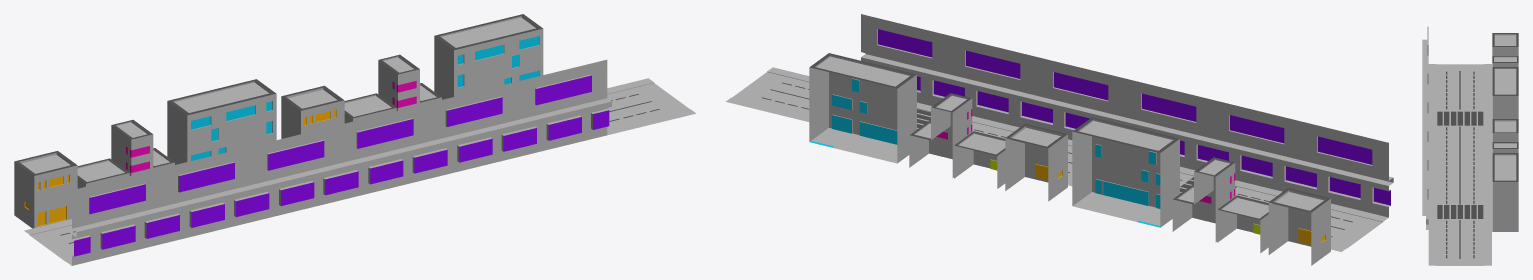
Rendered from Top_Down_City.fbx.
3 renders of one model, left to right at view 1: azimuth 30°, elevation 25°; view 2: azimuth 150°, elevation 25°; view 3: azimuth 270°, elevation 25°, orthographic. The views are drawn at different scales.
Visible parts, largest first — view 1: Building_04, Building_08, Block_Tile_03, Block_Tile_04, Block_Tile_02, Block_Tile_06, Block_Tile_01, Block_Tile_05, Building_01, Street_Tile_07, Building_05, Building_03 (+4 smaller); view 2: Building_04, Building_08, Block_Tile_01, Block_Tile_02, Block_Tile_05, Block_Tile_04, Block_Tile_03, Block_Tile_06, Building_01, Building_05, Building_03, Building_07 (+6 smaller); view 3: Building_08, Street_Tile_04, Street_Tile_01, Street_Tile_07, Street_Tile_03, Street_Tile_05, Street_Tile_06, Street_Tile_02, Building_04, Pedestrians_Pass_01, Building_05, Building_01 (+21 smaller).
Boxes of the visible parts, bbox=[...] form: Building_04: bbox=[167, 79, 276, 164]; Building_08: bbox=[434, 14, 543, 99]; Block_Tile_03: bbox=[250, 125, 344, 222]; Block_Tile_04: bbox=[339, 103, 433, 200]; Block_Tile_02: bbox=[161, 147, 254, 243]; Block_Tile_06: bbox=[518, 59, 611, 156]; Block_Tile_01: bbox=[72, 168, 165, 265]; Block_Tile_05: bbox=[429, 81, 522, 178]; Building_01: bbox=[14, 151, 77, 228]; Street_Tile_07: bbox=[607, 78, 695, 135]; Building_05: bbox=[281, 85, 344, 138]; Building_03: bbox=[111, 120, 174, 175]; Building_04: bbox=[1072, 117, 1179, 227]; Building_08: bbox=[809, 53, 916, 163]; Block_Tile_01: bbox=[1301, 121, 1393, 217]; Block_Tile_02: bbox=[1213, 100, 1305, 191]; Block_Tile_05: bbox=[949, 35, 1041, 127]; Block_Tile_04: bbox=[1037, 57, 1129, 139]; Block_Tile_03: bbox=[1125, 78, 1217, 170]; Block_Tile_06: bbox=[861, 14, 953, 105]; Building_01: bbox=[1268, 188, 1330, 265]; Building_05: bbox=[1005, 124, 1067, 201]; Building_03: bbox=[1172, 157, 1235, 242]; Building_07: bbox=[909, 93, 972, 177]; Building_08: bbox=[1492, 153, 1518, 231]; Street_Tile_04: bbox=[1428, 150, 1491, 179]; Street_Tile_01: bbox=[1428, 64, 1491, 93]; Street_Tile_07: bbox=[1428, 236, 1491, 265]; Street_Tile_03: bbox=[1428, 121, 1491, 150]; Street_Tile_05: bbox=[1428, 179, 1491, 208]; Street_Tile_06: bbox=[1428, 208, 1491, 237]; Street_Tile_02: bbox=[1428, 92, 1491, 121]; Building_04: bbox=[1492, 67, 1518, 118]; Pedestrians_Pass_01: bbox=[1437, 111, 1483, 125]; Building_05: bbox=[1492, 119, 1518, 141]; Building_01: bbox=[1492, 33, 1518, 55].
Size of the model in its own units: 19.54 by 3.94 by 2.32.
